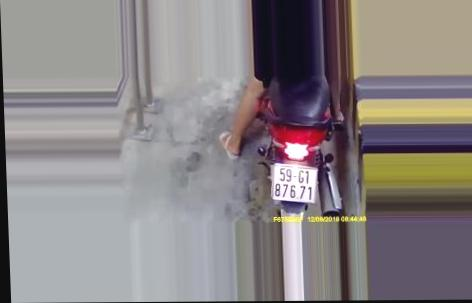License_Plate: (266, 160, 323, 206)
